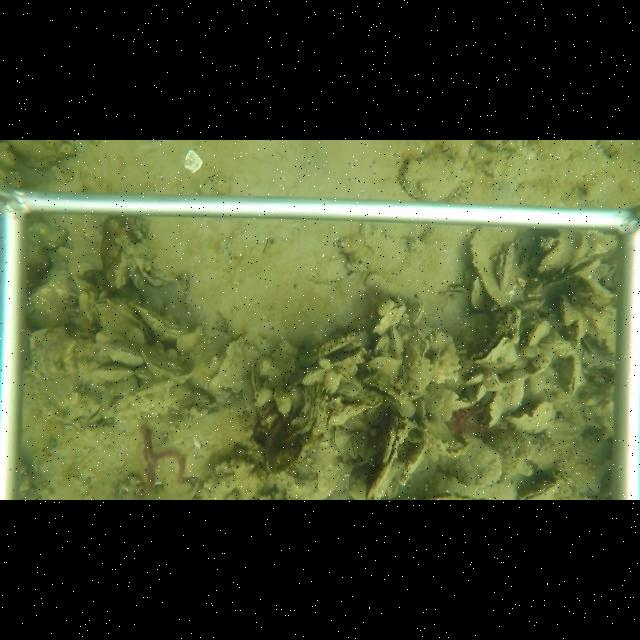Oyster-Closed: (101, 382, 195, 430), (396, 153, 475, 202), (204, 332, 249, 397), (467, 228, 502, 308), (134, 304, 193, 343), (137, 345, 191, 385), (505, 400, 559, 435), (491, 241, 516, 296), (559, 353, 585, 399), (88, 364, 134, 383), (526, 318, 555, 348), (481, 394, 503, 429), (388, 326, 405, 359), (482, 368, 505, 392), (410, 300, 428, 329), (344, 436, 358, 462), (328, 428, 342, 450), (473, 381, 485, 403)
Oyster-Open: (465, 305, 523, 366), (364, 423, 410, 499), (528, 237, 577, 274), (516, 480, 560, 499), (249, 364, 264, 396)
